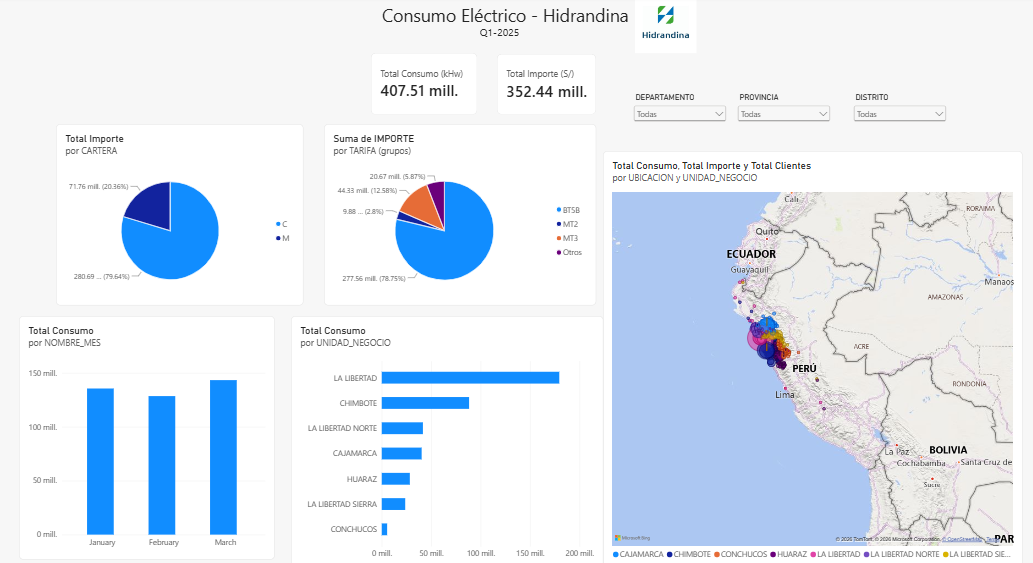

The dashboard page shown, as its layout file describes it:
{"tool":"powerbi","page":{"name":"Resumen Ejecutivo","canvas":[1920,1080],"ordinal":0},"visuals":[{"type":"cardVisual","fields":{"Data":["Fact_Factura.Total Consumo"]},"box":[697.3,112.7,193.5,112.7],"z":0},{"type":"cardVisual","fields":{"Data":["Fact_Factura.Total Importe"]},"box":[926.9,114.8,180.7,110.6],"z":1000},{"type":"map","fields":{"Category":["Dim_Cliente.Ubicacion"],"Series":["Dim_Sucursal.UNIDAD_NEGOCIO"],"Size":["Fact_Factura.Total Consumo"]},"box":[1120,290,763.2,765.4],"z":2000},{"type":"slicer","fields":{"Values":["Dim_Cliente.DEPARTAMENTO"]},"box":[1170,185,178,82],"z":3000},{"type":"slicer","fields":{"Values":["Dim_Cliente.PROVINCIA"]},"box":[1360,185,178,82],"z":4000},{"type":"slicer","fields":{"Values":["Dim_Cliente.DISTRITO"]},"box":[1570,185,178,82],"z":5000},{"type":"pieChart","fields":{"Category":["Dim_Tarifa.Otros"],"Y":["Sum(Fact_Factura.IMPORTE)"]},"box":[612.3,242.4,495,330],"z":6000},{"type":"pieChart","fields":{"Category":["Dim_Tarifa.CARTERA"],"Y":["Fact_Factura.Total Importe"]},"box":[125.4,242.4,450,330],"z":7000},{"type":"barChart","fields":{"Category":["Dim_Sucursal.UNIDAD_NEGOCIO"],"Y":["Fact_Factura.Total Consumo"]},"box":[552.8,591,567.5,462.5],"z":8000},{"type":"columnChart","fields":{"Category":["Dim_Fecha.NOMBRE_MES"],"Y":["Fact_Factura.Total Consumo"]},"box":[57.4,591,465,442.5],"z":9000},{"type":"textbox","box":[890.8,61.7,97.8,27.6],"z":10000},{"type":"textbox","box":[718.6,21.3,450.7,55.3],"z":11000},{"type":"image","box":[1169.3,0,129.7,112.7],"z":11001}]}

Visuals, with their boxes on the page's 1920x1080 design canvas (x1, y1, x2, y2). These are canvas units, not pixel positions in the 1033x563 screenshot, which may show the page scaled, cropped or inside an application window:
cardVisual - Fact_Factura.Total Consumo: 697/113/891/225
cardVisual - Fact_Factura.Total Importe: 927/115/1108/225
map - Dim_Cliente.Ubicacion x Dim_Sucursal.UNIDAD_NEGOCIO: 1120/290/1883/1055
slicer - Dim_Cliente.DEPARTAMENTO: 1170/185/1348/267
slicer - Dim_Cliente.PROVINCIA: 1360/185/1538/267
slicer - Dim_Cliente.DISTRITO: 1570/185/1748/267
pieChart - Dim_Tarifa.Otros x Sum(Fact_Factura.IMPORTE): 612/242/1107/572
pieChart - Dim_Tarifa.CARTERA x Fact_Factura.Total Importe: 125/242/575/572
barChart - Dim_Sucursal.UNIDAD_NEGOCIO x Fact_Factura.Total Consumo: 553/591/1120/1054
columnChart - Dim_Fecha.NOMBRE_MES x Fact_Factura.Total Consumo: 57/591/522/1034
textbox: 891/62/989/89
textbox: 719/21/1169/77
image: 1169/0/1299/113
